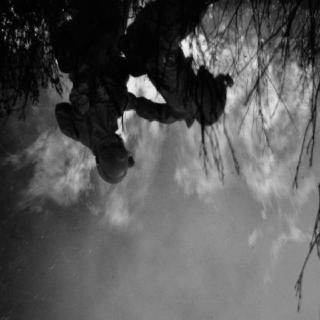Fire: (9, 10, 318, 276)
other: (59, 50, 129, 187)
